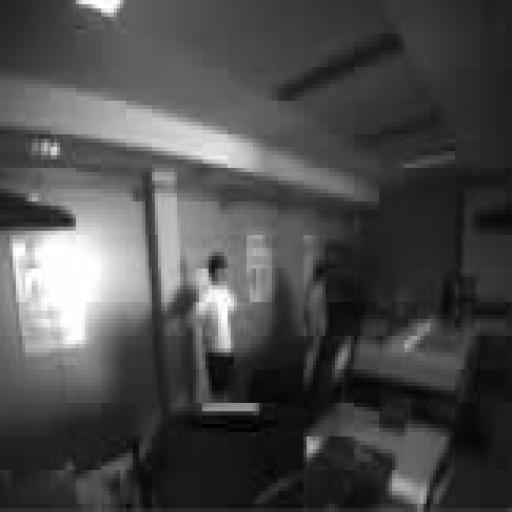human: (196, 252, 237, 402), (304, 261, 328, 386)
